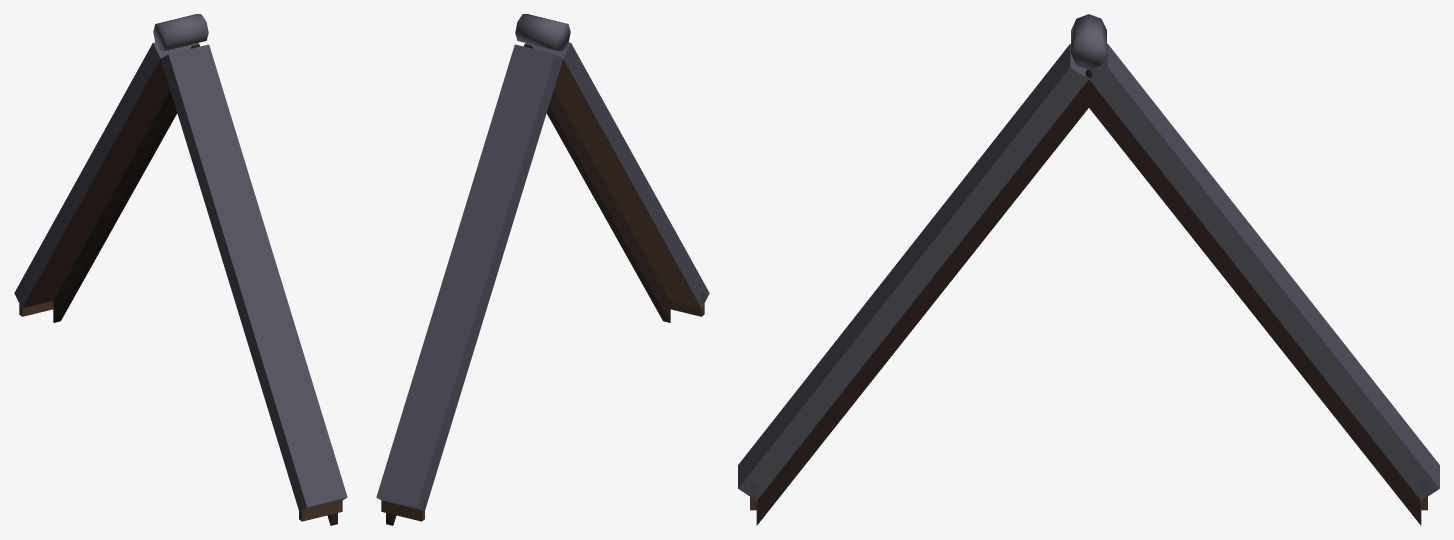
Rendered from kit_church_slate_w2_end.glb.
3 renders of one model, left to right at view 1: azimuth 30°, elevation 25°; view 2: azimuth 150°, elevation 25°; view 3: azimuth 270°, elevation 25°, orthographic. The views are drawn at different scales.
Visible parts, largest first — view 1: kit_church_slate_w2_end; view 2: kit_church_slate_w2_end; view 3: kit_church_slate_w2_end.
Boxes of the visible parts, box(x1,y1,x2,y2) form: kit_church_slate_w2_end: box(14, 14, 347, 525); kit_church_slate_w2_end: box(376, 14, 709, 525); kit_church_slate_w2_end: box(738, 14, 1439, 525).
Size of the model in its own units: 0.22 by 2.11 by 2.75.
